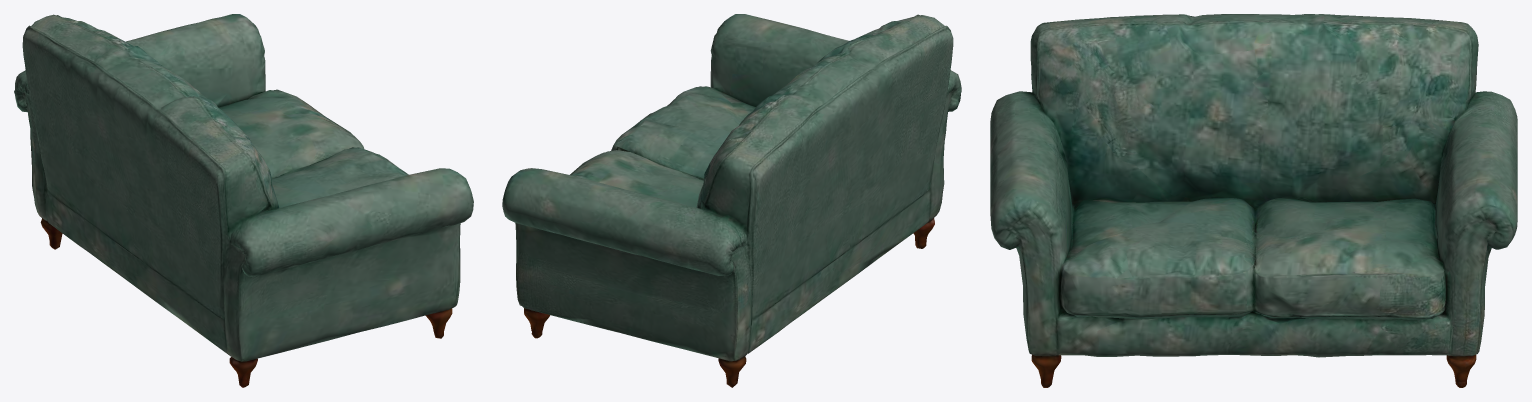
Rendered from prop_sofa-CpKt_4Ob.glb.
3 views of the same model, side by side, from view 1: azimuth 30°, elevation 25°; view 2: azimuth 150°, elevation 25°; view 3: azimuth 270°, elevation 25° (orthographic). The views are drawn at different scales.
Parts seen in each view (by area): view 1: tripo_node_c6f1771c-eeb9-49e6-9949-7ef5bd1fde9f; view 2: tripo_node_c6f1771c-eeb9-49e6-9949-7ef5bd1fde9f; view 3: tripo_node_c6f1771c-eeb9-49e6-9949-7ef5bd1fde9f.
Part boxes in pixels (<box>): tripo_node_c6f1771c-eeb9-49e6-9949-7ef5bd1fde9f: <box>14,14,473,387</box>; tripo_node_c6f1771c-eeb9-49e6-9949-7ef5bd1fde9f: <box>502,14,961,387</box>; tripo_node_c6f1771c-eeb9-49e6-9949-7ef5bd1fde9f: <box>990,14,1517,387</box>.
Size of the model in its own units: 0.6186 by 0.5617 by 0.9998.
1 material, 1 textured.
